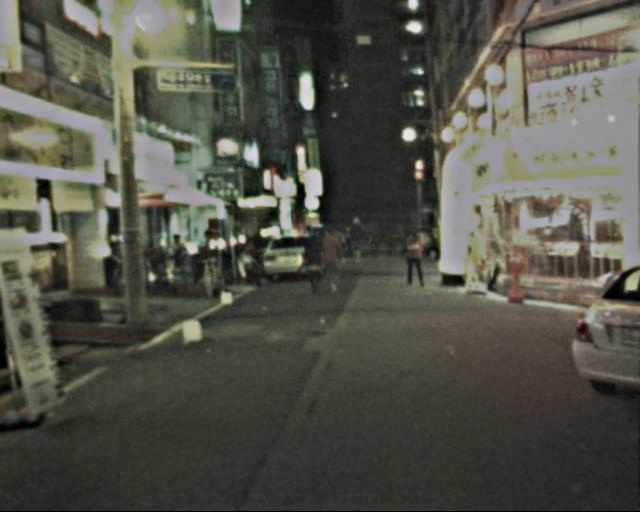person: (299, 226, 330, 300), (318, 223, 347, 298), (402, 225, 430, 290), (344, 216, 366, 265), (364, 217, 383, 260), (385, 228, 400, 264)
